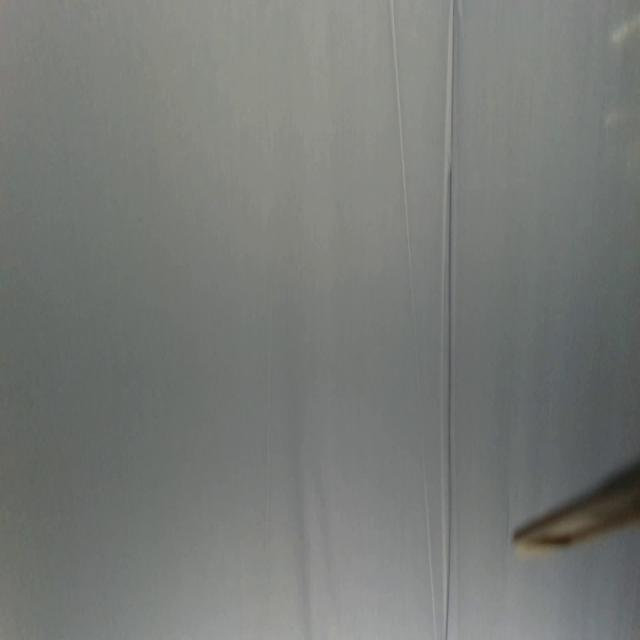crease: (389, 1, 438, 640), (443, 0, 464, 639)
